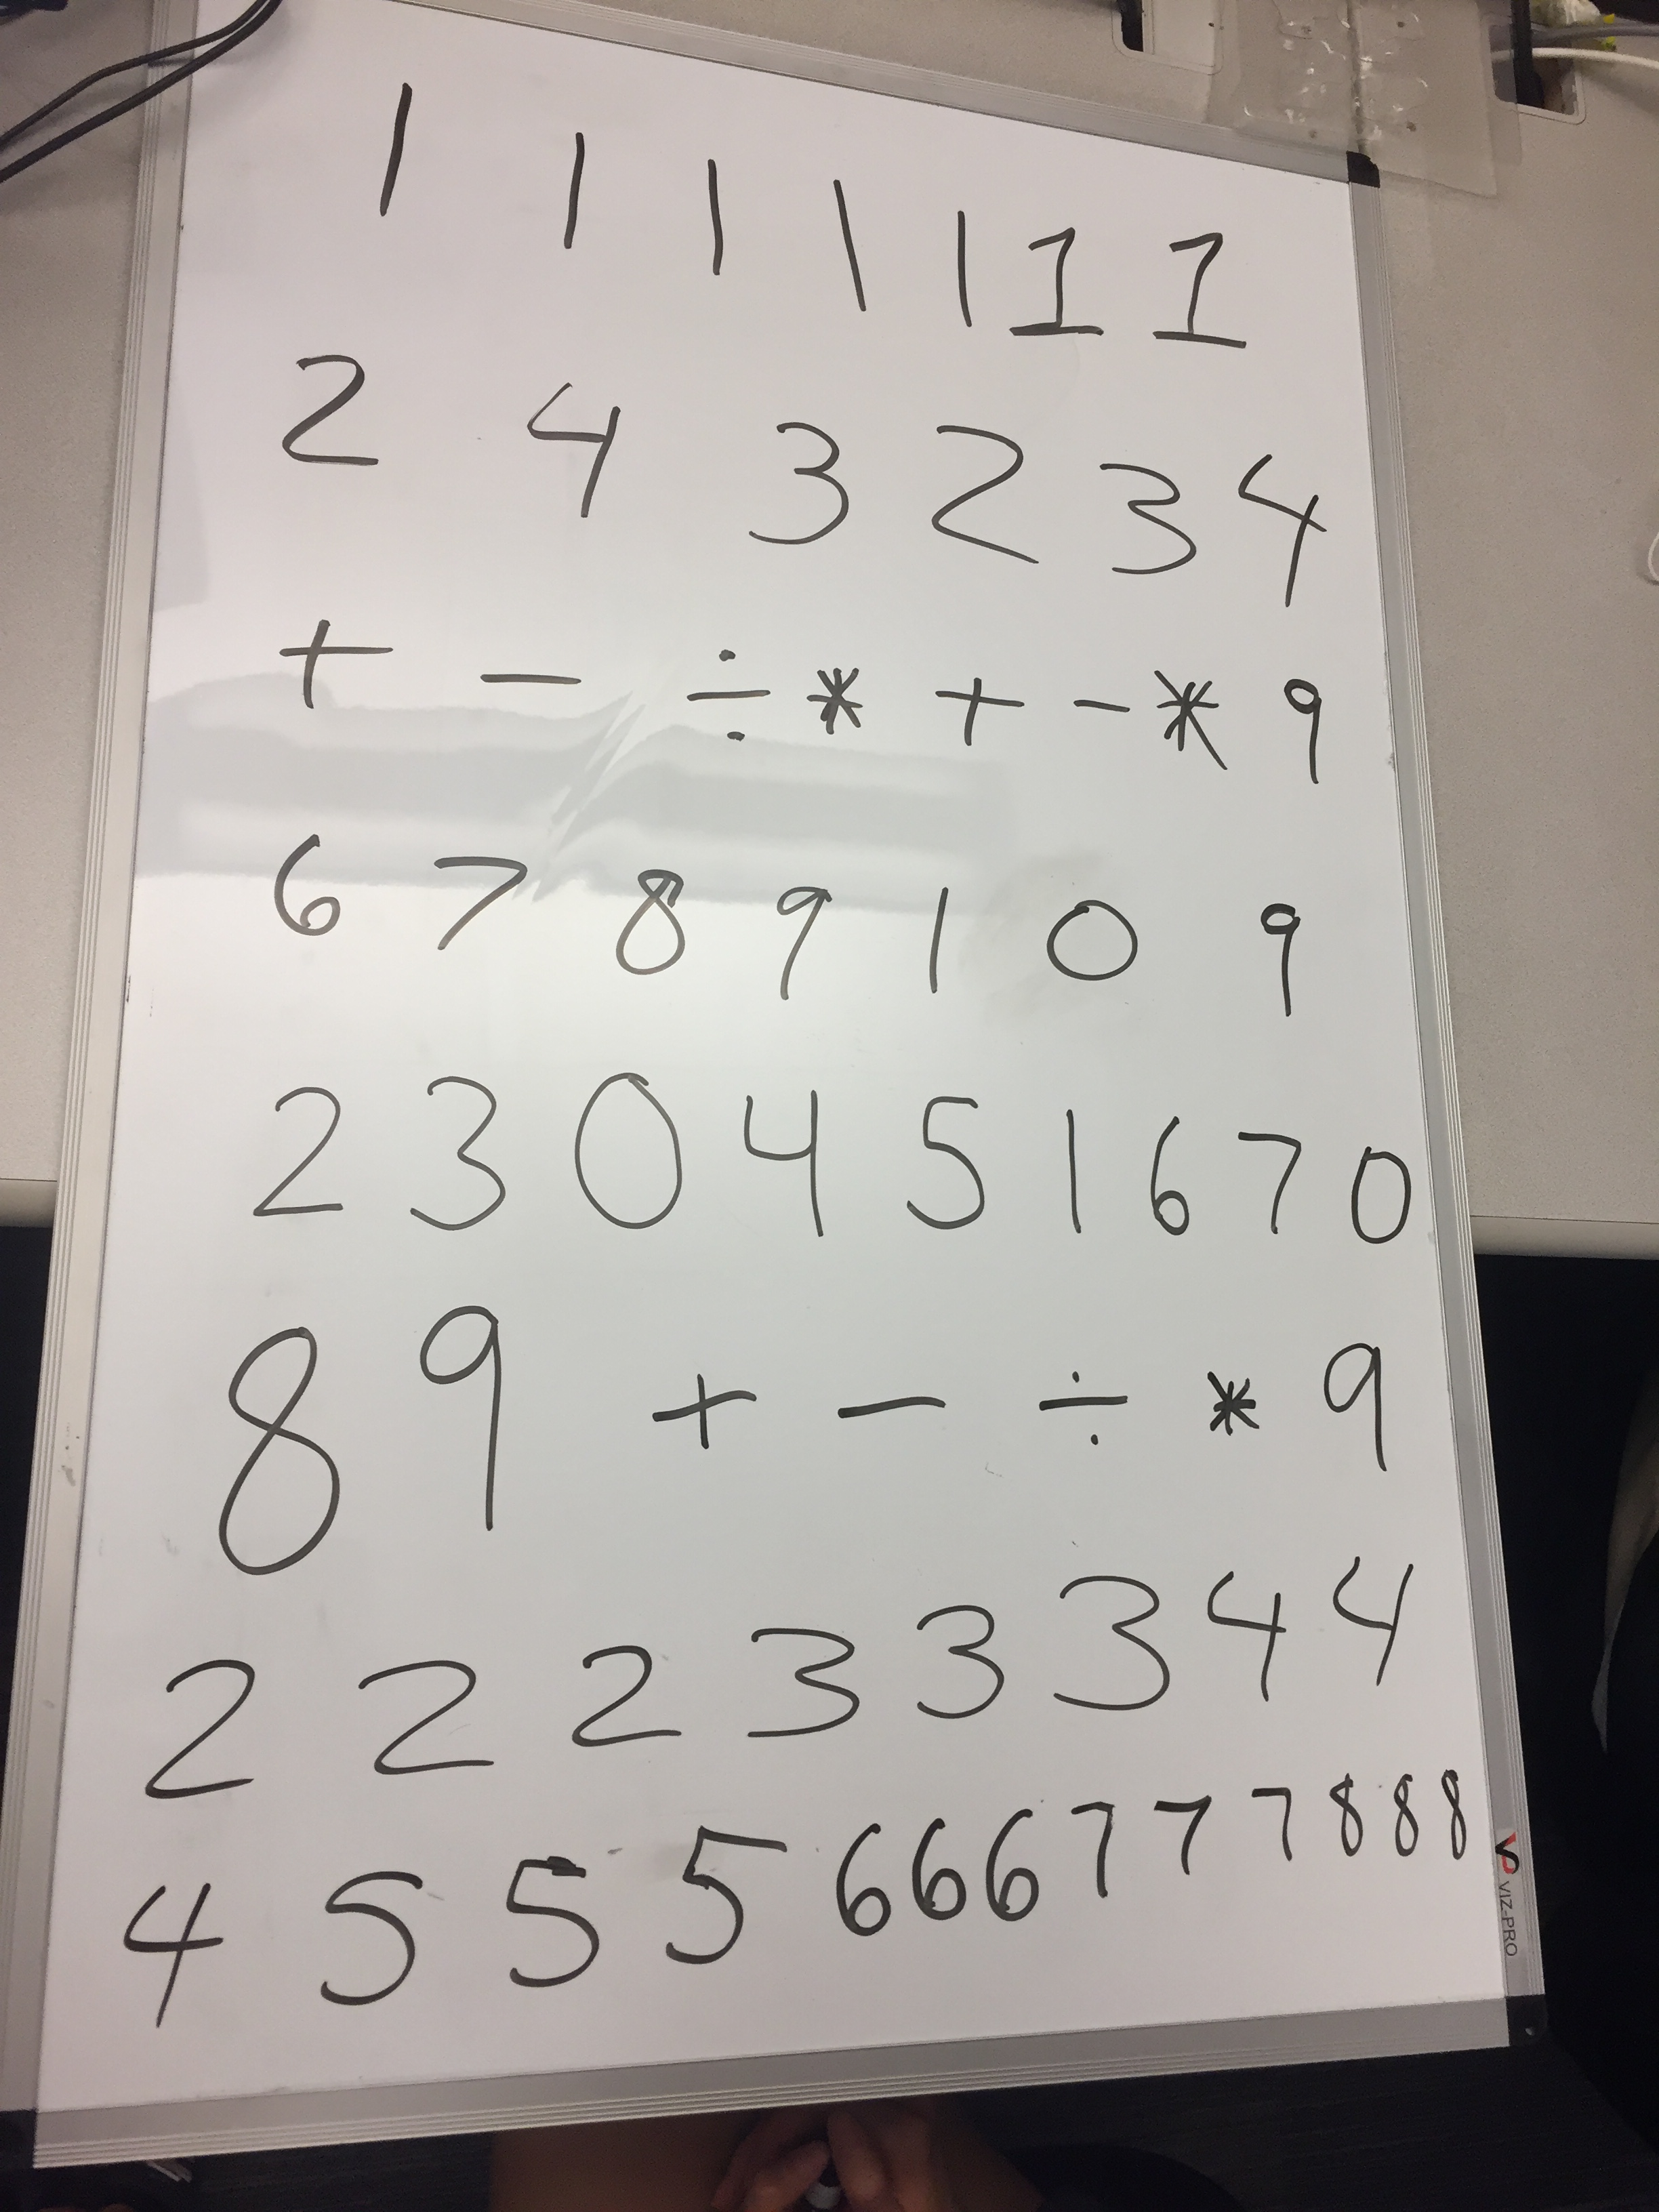+: (258, 587, 406, 747), (636, 1350, 774, 1480), (924, 648, 1032, 773)
-: (467, 611, 598, 738), (823, 1357, 962, 1447), (1056, 657, 1145, 765)
0: (558, 1050, 701, 1251), (1026, 874, 1148, 1019), (1338, 1129, 1420, 1277)
1: (1140, 209, 1272, 366), (1000, 199, 1114, 361), (885, 864, 992, 1012), (803, 160, 890, 338), (357, 73, 436, 232), (530, 105, 599, 270), (1046, 1087, 1110, 1264), (683, 134, 751, 300), (929, 190, 997, 354)
2: (913, 409, 1058, 603), (335, 1637, 507, 1799), (132, 1644, 275, 1829), (261, 331, 397, 502), (239, 1073, 364, 1238), (552, 1629, 694, 1773)
3: (394, 1061, 523, 1268), (1037, 1561, 1185, 1735), (728, 1606, 875, 1764), (1084, 434, 1213, 608), (739, 399, 857, 570), (894, 1590, 1023, 1747)
4: (723, 1064, 861, 1270), (516, 357, 648, 531), (113, 1855, 232, 2041), (1227, 437, 1338, 625), (1323, 1541, 1432, 1712), (1194, 1557, 1307, 1716)
5: (481, 1832, 619, 2029), (659, 1806, 793, 2006), (300, 1848, 436, 2038), (897, 1066, 1000, 1270)
6: (239, 799, 378, 977), (974, 1796, 1056, 1980), (817, 1799, 903, 1973), (1129, 1096, 1211, 1264), (901, 1803, 981, 1970)
7: (410, 822, 542, 981), (1227, 1106, 1317, 1270), (1058, 1784, 1140, 1951), (1143, 1780, 1229, 1897), (1239, 1773, 1317, 1883)
8: (200, 1306, 352, 1602), (580, 850, 723, 1000), (1314, 1761, 1375, 1871), (1427, 1747, 1478, 1879), (1382, 1754, 1431, 1874)
9: (406, 1284, 538, 1576), (1310, 1329, 1417, 1486), (742, 857, 849, 1012), (1262, 660, 1363, 792), (1239, 888, 1330, 1035)
div: (659, 632, 796, 766), (1030, 1348, 1143, 1467)
x: (1133, 651, 1253, 782), (789, 641, 896, 770), (1187, 1348, 1277, 1463)
